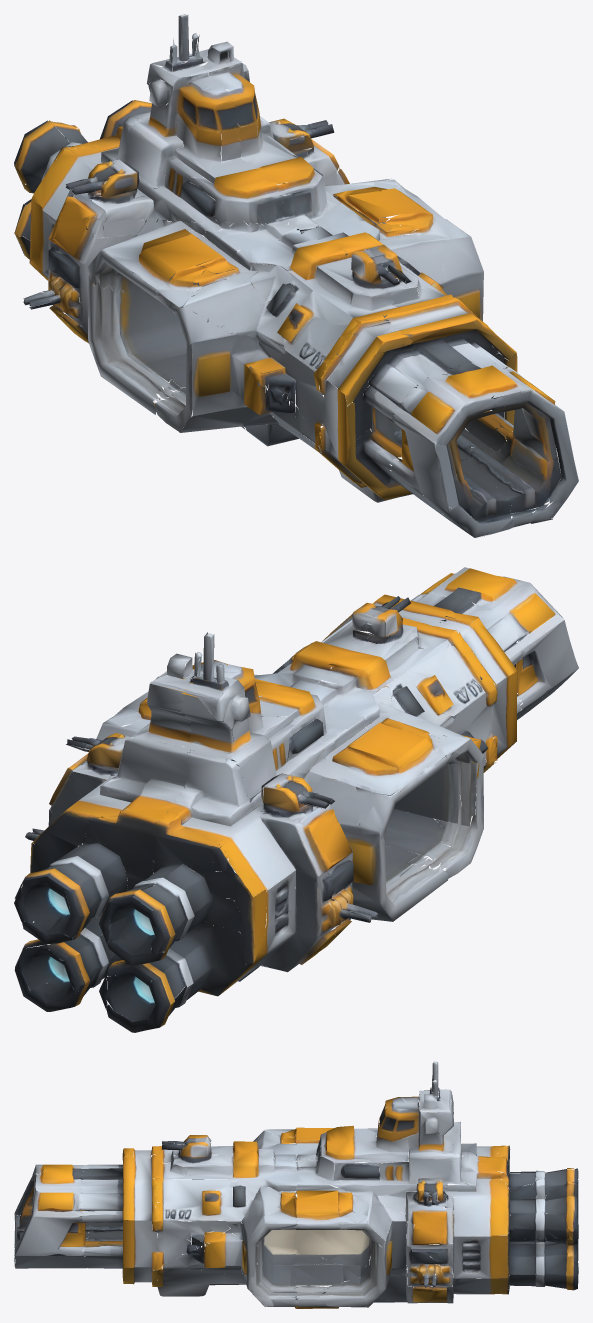
The model's file is carrier-b.glb.
The picture shows the model from 3 angles, top to bottom: view 1: azimuth 30°, elevation 25°; view 2: azimuth 150°, elevation 25°; view 3: azimuth 270°, elevation 25°; orthographic projection. The views are drawn at different scales.
Visible parts, largest first — view 1: tripo_node_a4a8ec5f-a429-4dbf-a86b-52cce01fb34f; view 2: tripo_node_a4a8ec5f-a429-4dbf-a86b-52cce01fb34f; view 3: tripo_node_a4a8ec5f-a429-4dbf-a86b-52cce01fb34f.
Boxes of the visible parts, x1,y1,x2,y2 form: tripo_node_a4a8ec5f-a429-4dbf-a86b-52cce01fb34f: (14,14,578,537); tripo_node_a4a8ec5f-a429-4dbf-a86b-52cce01fb34f: (14,567,578,1032); tripo_node_a4a8ec5f-a429-4dbf-a86b-52cce01fb34f: (14,1061,578,1308).
Bounding box in the file's own units: 0.4681 × 0.436 × 1.
1 material, 1 textured.
